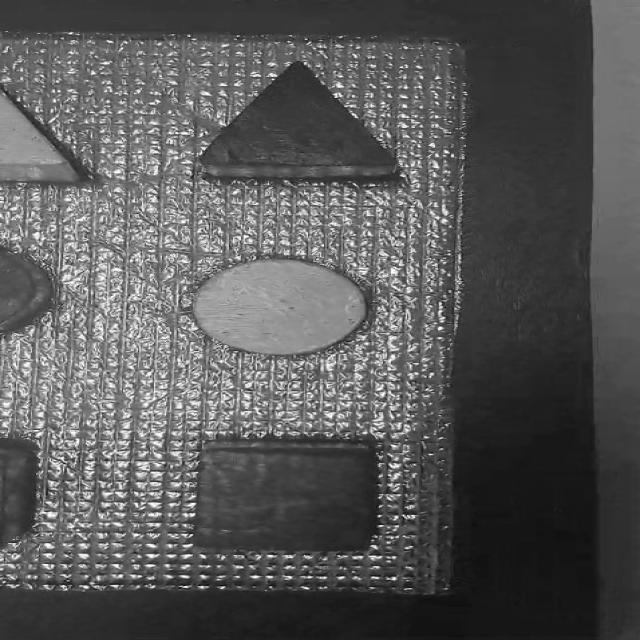btriangle: (168, 58, 452, 197)
rcube: (166, 433, 408, 570)
ycircle: (166, 251, 407, 382)
